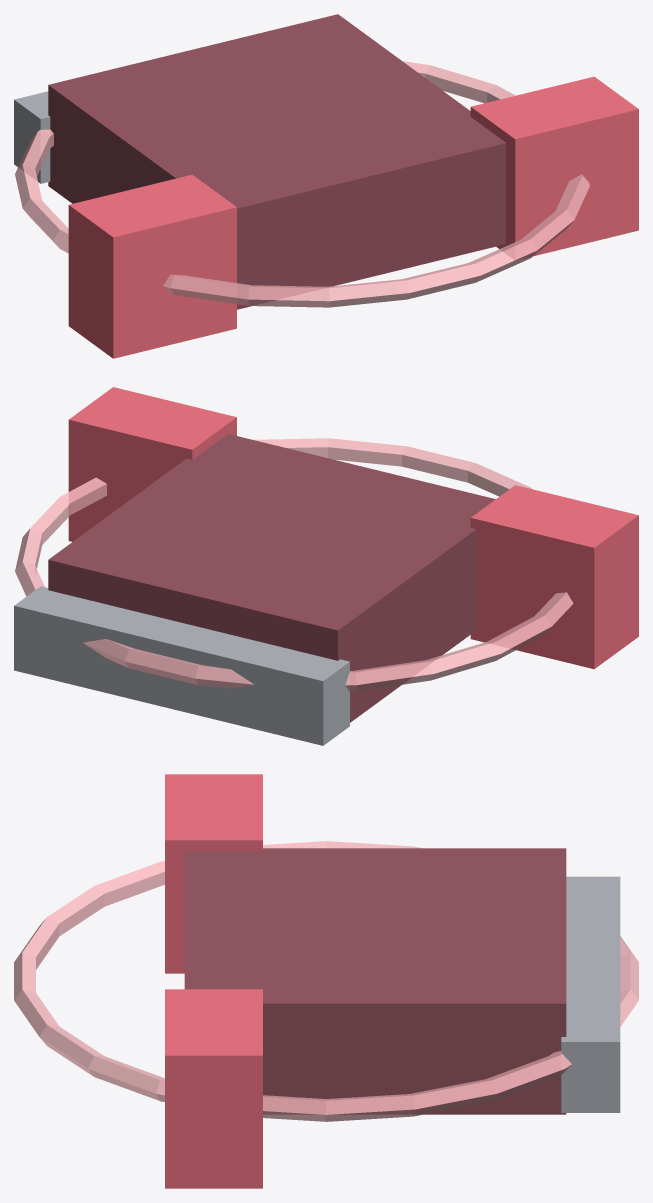
The model's file is 04_magic_armor_upgrade.glb.
3 views of the same model, one above another, from view 1: azimuth 30°, elevation 25°; view 2: azimuth 150°, elevation 25°; view 3: azimuth 270°, elevation 25° (orthographic). The views are drawn at different scales.
Parts seen in each view (by area): view 1: chest_plate, pauldron_l, pauldron_r, warding_aura, waist_guard; view 2: chest_plate, waist_guard, pauldron_l, warding_aura, pauldron_r; view 3: chest_plate, pauldron_r, warding_aura, waist_guard, pauldron_l.
Boxes of the visible parts, <box> form: chest_plate: <box>48,14,506,309</box>; pauldron_l: <box>68,174,236,358</box>; pauldron_r: <box>470,76,638,259</box>; warding_aura: <box>15,61,589,307</box>; waist_guard: <box>14,91,50,183</box>; chest_plate: <box>48,434,495,722</box>; waist_guard: <box>14,586,349,745</box>; pauldron_l: <box>470,485,638,669</box>; warding_aura: <box>15,438,573,691</box>; pauldron_r: <box>68,387,236,541</box>; chest_plate: <box>184,848,566,1114</box>; pauldron_r: <box>165,989,262,1188</box>; warding_aura: <box>14,841,638,1121</box>; waist_guard: <box>561,876,620,1112</box>; pauldron_l: <box>165,774,262,973</box>.
Bounding box in the file's own units: 1.36 × 0.38 × 1.28.
